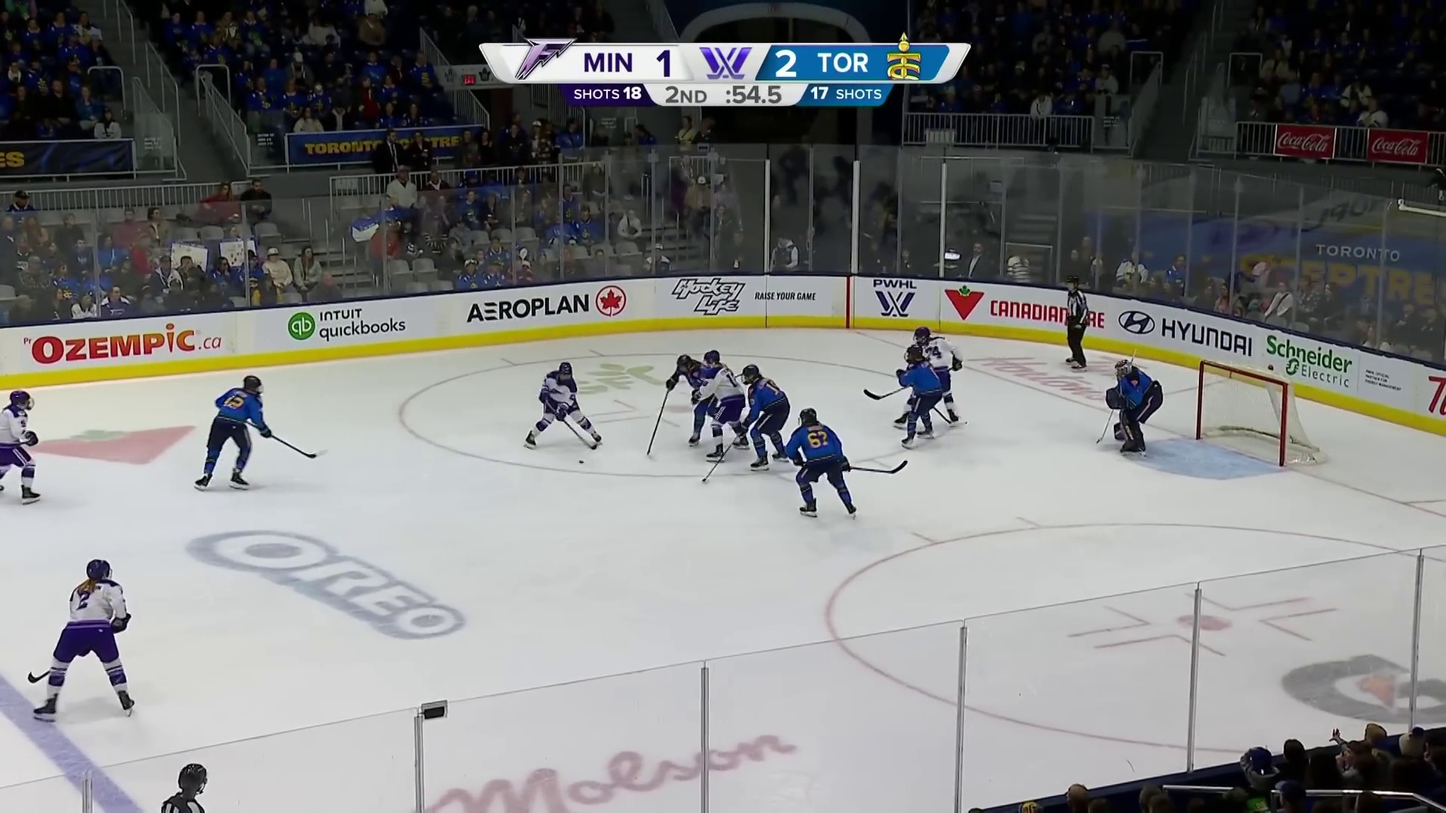goaltender: (1105, 359, 1163, 457)
player: (32, 558, 137, 722), (193, 374, 273, 493), (784, 406, 858, 520), (524, 361, 604, 449), (738, 363, 791, 470), (910, 325, 964, 426), (896, 344, 944, 447)
puck: (576, 458, 586, 465)
referee: (1065, 275, 1089, 371)
